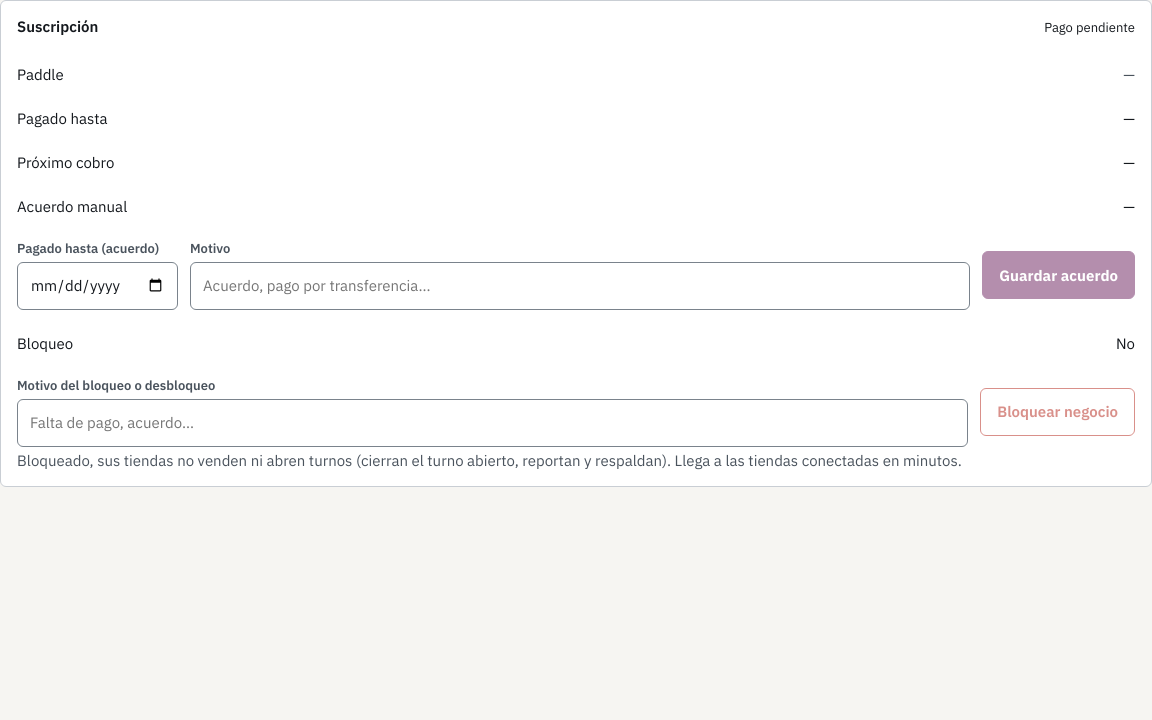
Test: TK-279: staff block a business with its reason, and unblock it
Expected: the button "Bloquear negocio" is disabled, [980,388,1135,436]
Type "Sin pago" into the field labelled "Motivo del bloqueo o desbloqueo" at (493, 423), box [17,399,968,447]
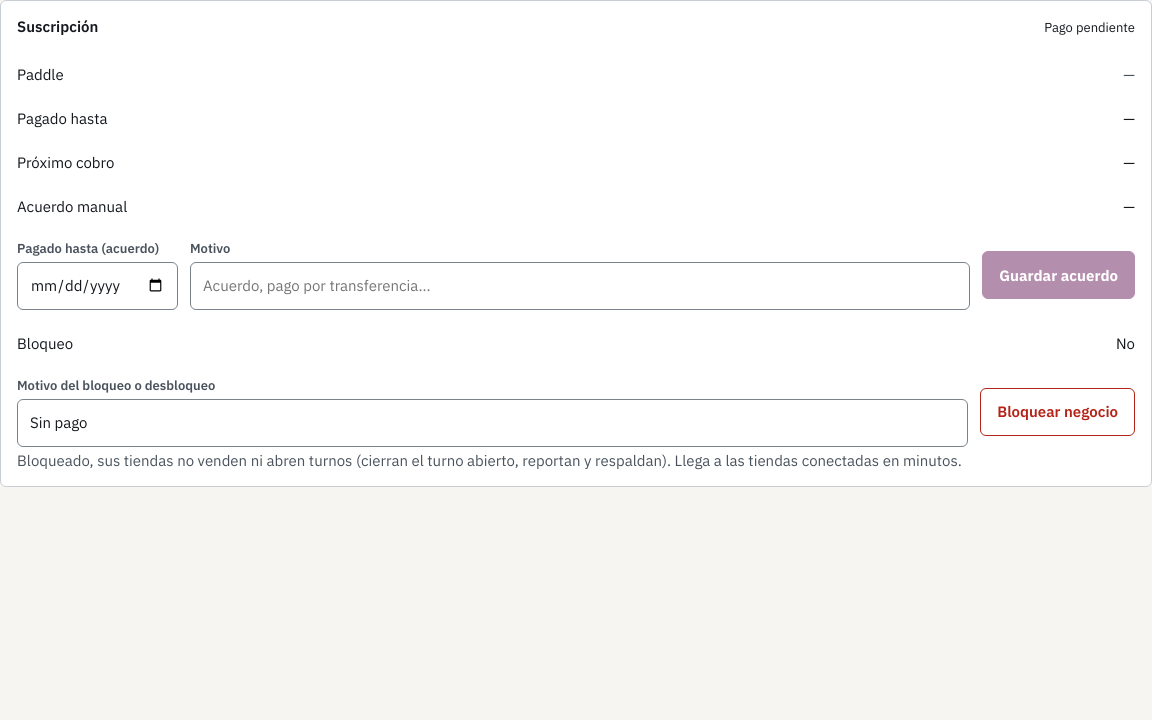
Click the button "Bloquear negocio" at (1058, 412), box [980,388,1135,436]
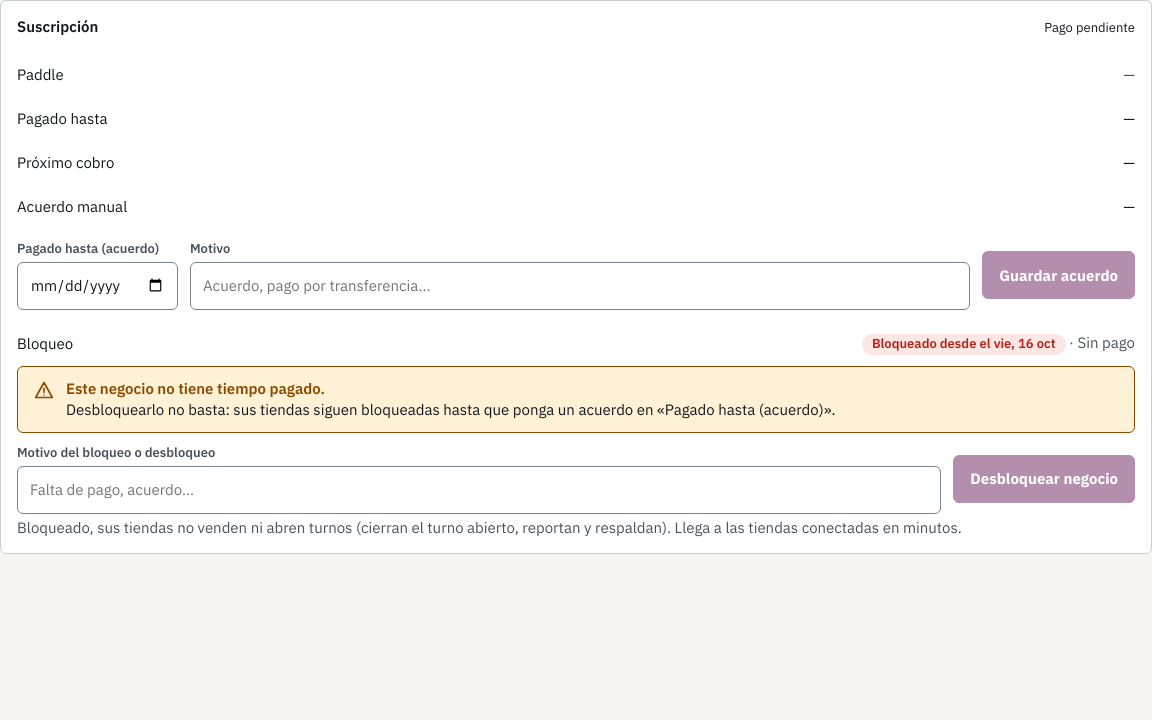
Expected: the text "Bloqueado desde el vie, 16 oct" is shown, [862,334,1066,355]
Expected: the text "Este negocio no tiene tiempo pagado." is shown, [66,379,325,398]
Type "Pagó por transferencia" into the field labelled "Motivo del bloqueo o desbloqueo" at (479, 490), box [17,466,941,514]
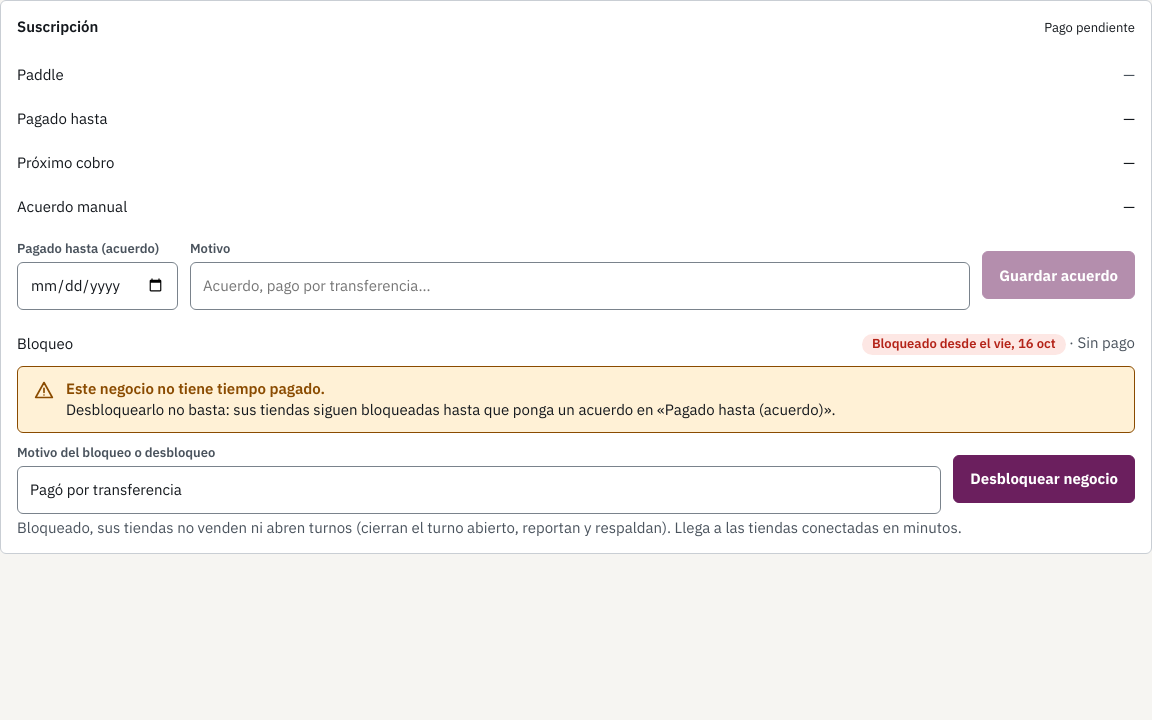
Click the button "Desbloquear negocio" at (1044, 479), box [953,455,1135,503]
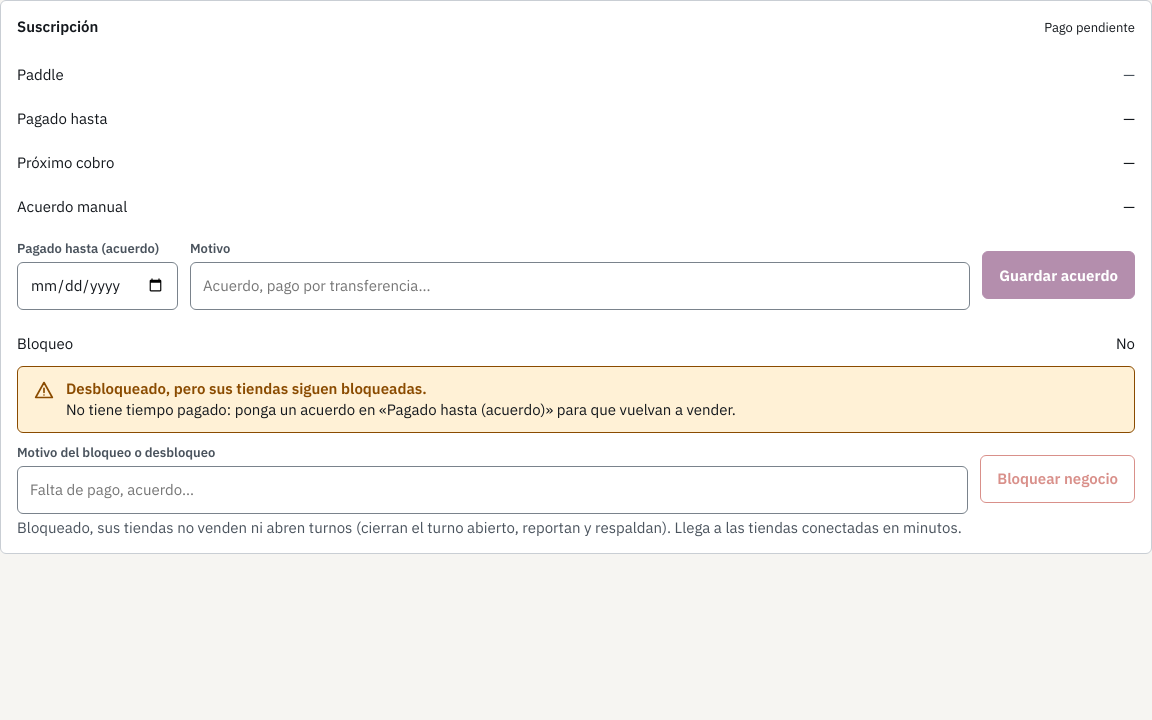
Expected: the button "Bloquear negocio" is shown, [980,455,1135,503]
Expected: the text "Desbloqueado, pero sus tiendas siguen bloqueadas." is shown, [66,379,427,398]
